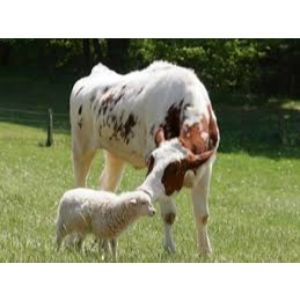cow: (64, 58, 220, 186)
sheep: (51, 187, 158, 257)
